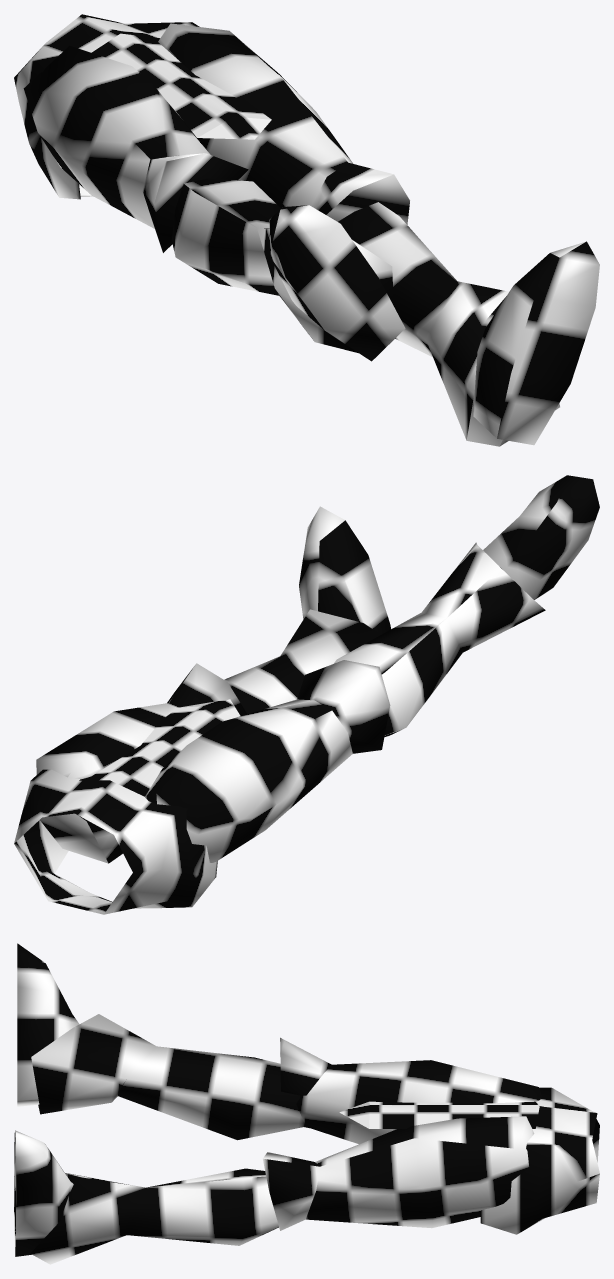
Rendered from initarlg9.dae.
The picture shows the model from 3 angles, top to bottom: view 1: azimuth 30°, elevation 25°; view 2: azimuth 150°, elevation 25°; view 3: azimuth 270°, elevation 25°; orthographic projection. The views are drawn at different scales.
Visible parts, largest first — view 1: armor; view 2: armor; view 3: armor.
Part boxes in pixels (bbox=[...]): armor: bbox=[14, 14, 599, 446]; armor: bbox=[14, 475, 599, 914]; armor: bbox=[14, 943, 599, 1264].
Bounding box in the file's own units: 0.7916 × 1.65 × 0.7233.
1 material, 1 textured.
